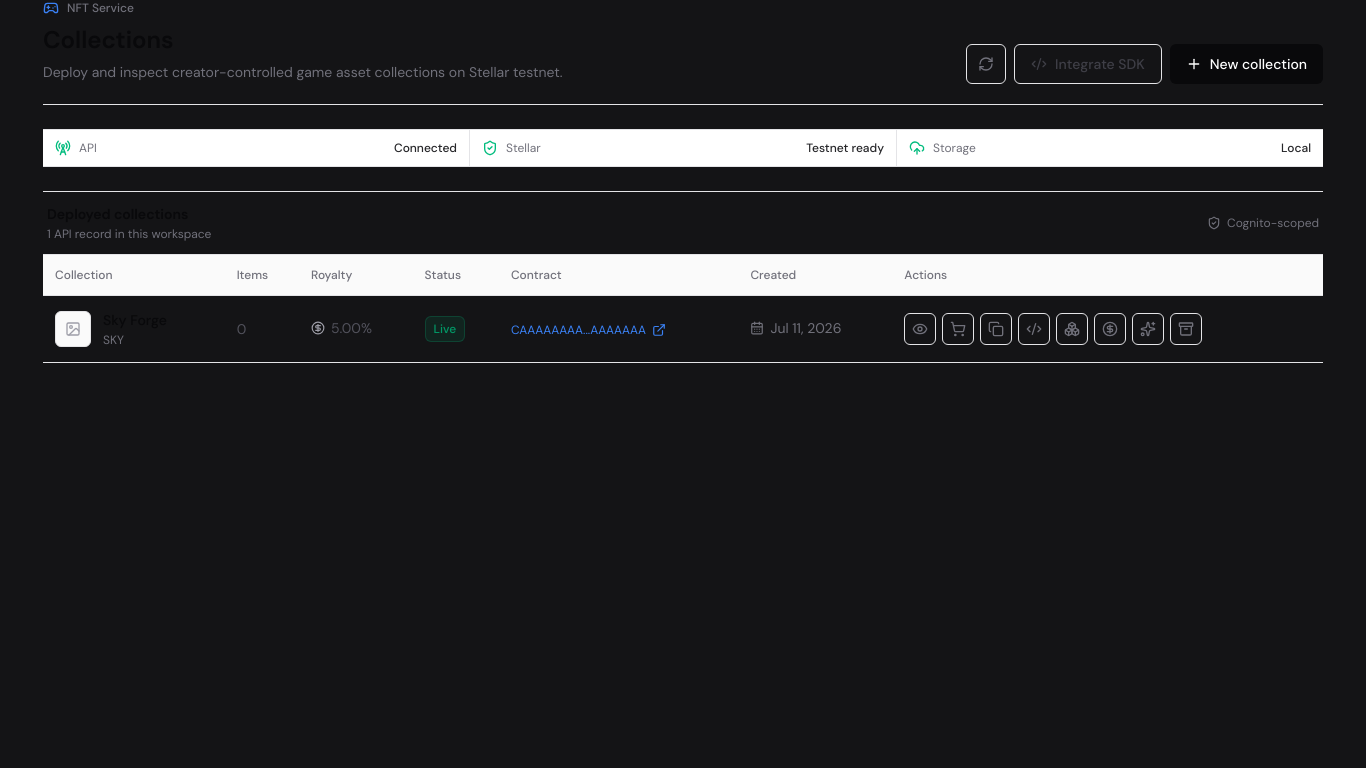
Test case: CollectionDashboard › prepares and submits creator mint with Freighter
This screenshot has width=1366, height=768.
Step 1. Click the button titled "Mint token" → [1148, 329], box left=1132, top=313, right=1164, bottom=345
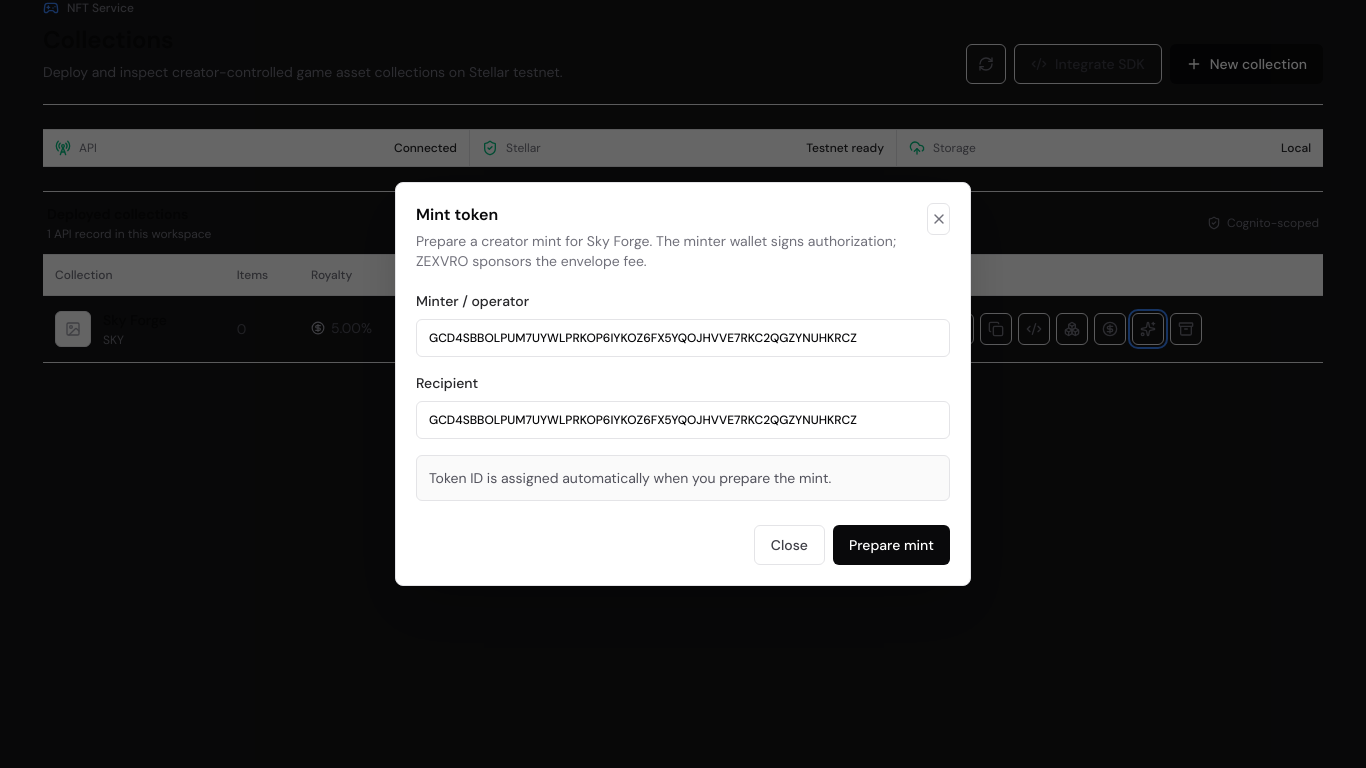
Result: the heading "Mint token" is shown at left=416, top=204, right=498, bottom=225
Result: the text "assigned automatically" is shown at left=429, top=469, right=831, bottom=487
Step 2. Click the button "Prepare mint" → [891, 545], box left=833, top=525, right=950, bottom=565
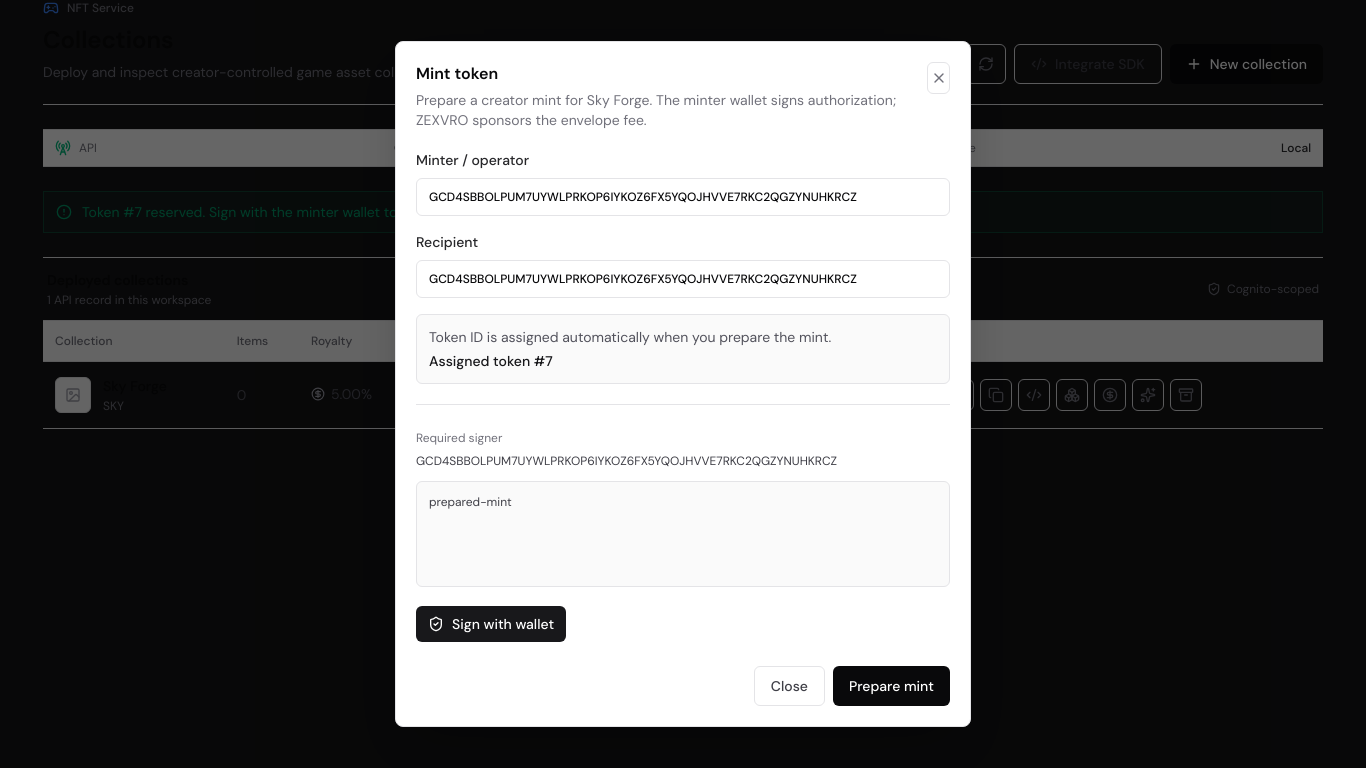
Result: the text "Assigned token #7" is shown at left=429, top=352, right=553, bottom=370
Step 3. Click the button "Sign with wallet" → [491, 624], box left=416, top=606, right=566, bottom=642
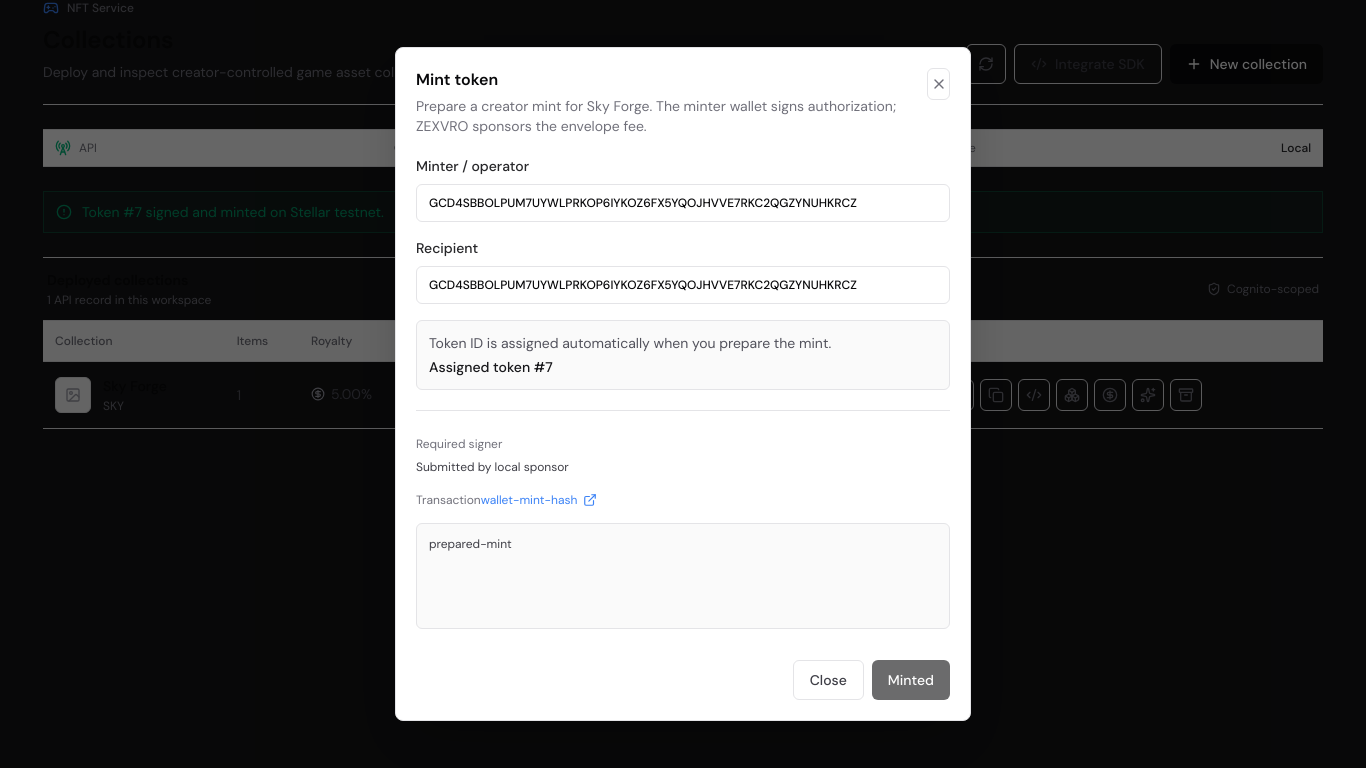
Result: the text "Token #7 signed and minted on Stellar testnet." is shown at left=82, top=202, right=384, bottom=222
